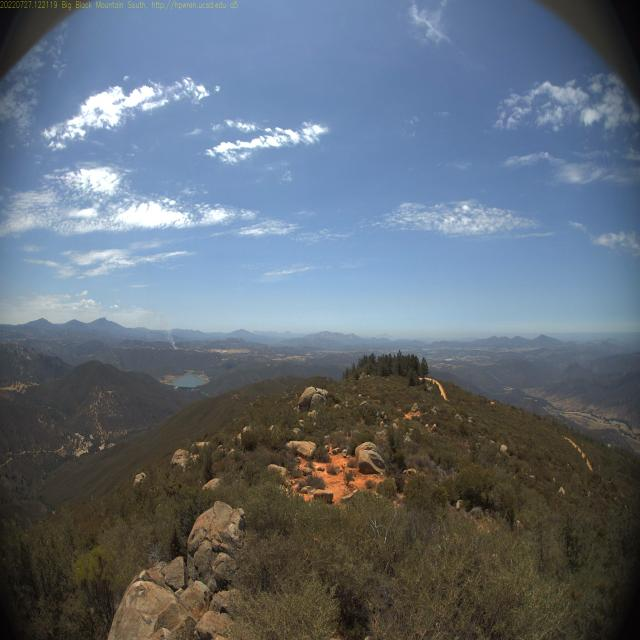smoke: (129, 260, 167, 326), (160, 324, 180, 351)
